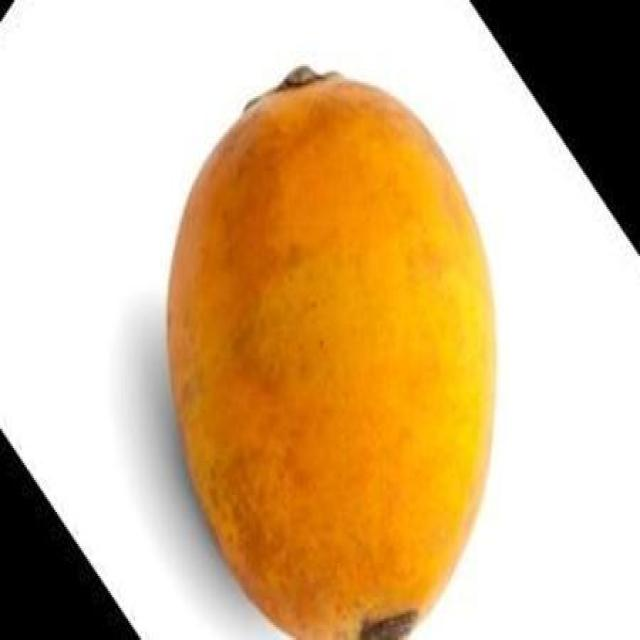good: (164, 68, 501, 638)
